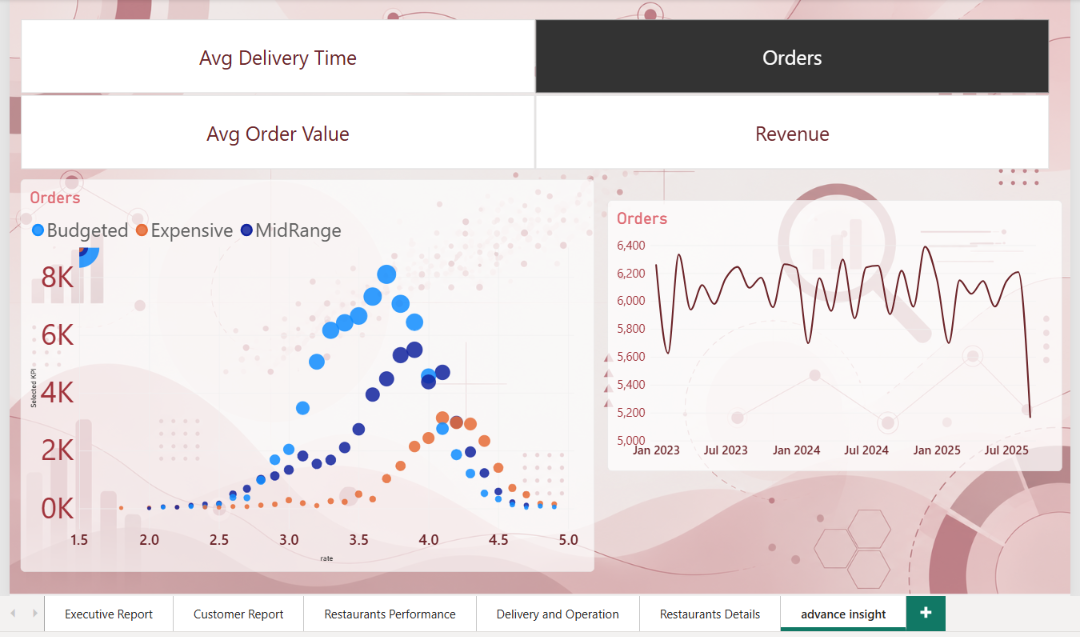

Layout of this report page (visuals, bound fields, positions):
{"tool":"powerbi","page":{"name":"advance insight ","canvas":[1920,1080],"ordinal":5},"visuals":[{"type":"slicer","fields":{"Values":["KPI.KPI name"]},"box":[0,35,1900,275],"z":0},{"type":"lineChart","fields":{"Category":["DateTable.Date.Variation.Date Hierarchy.Year","DateTable.Date.Variation.Date Hierarchy.Month"],"Y":["Orders.Selected KPI"]},"box":[1082,364,822,490],"z":1000},{"type":"scatterChart","fields":{"Series":["Restaurants.CostBucket"],"Size":["Orders.TotalOrder"],"X":["Restaurants.rate"],"Y":["Orders.Selected KPI"]},"box":[20,326,1038,710],"z":2000}]}

Visuals, with their boxes on the page's 1920x1080 design canvas (x1, y1, x2, y2). These are canvas units, not pixel positions in the 1080x637 screenshot, which may show the page scaled, cropped or inside an application window:
slicer - KPI.KPI name: {"left": 0, "top": 35, "right": 1900, "bottom": 310}
lineChart - DateTable.Date.Variation.Date Hierarchy.Year x DateTable.Date.Variation.Date Hierarchy.Month: {"left": 1082, "top": 364, "right": 1904, "bottom": 854}
scatterChart - Restaurants.CostBucket x Orders.TotalOrder: {"left": 20, "top": 326, "right": 1058, "bottom": 1036}
